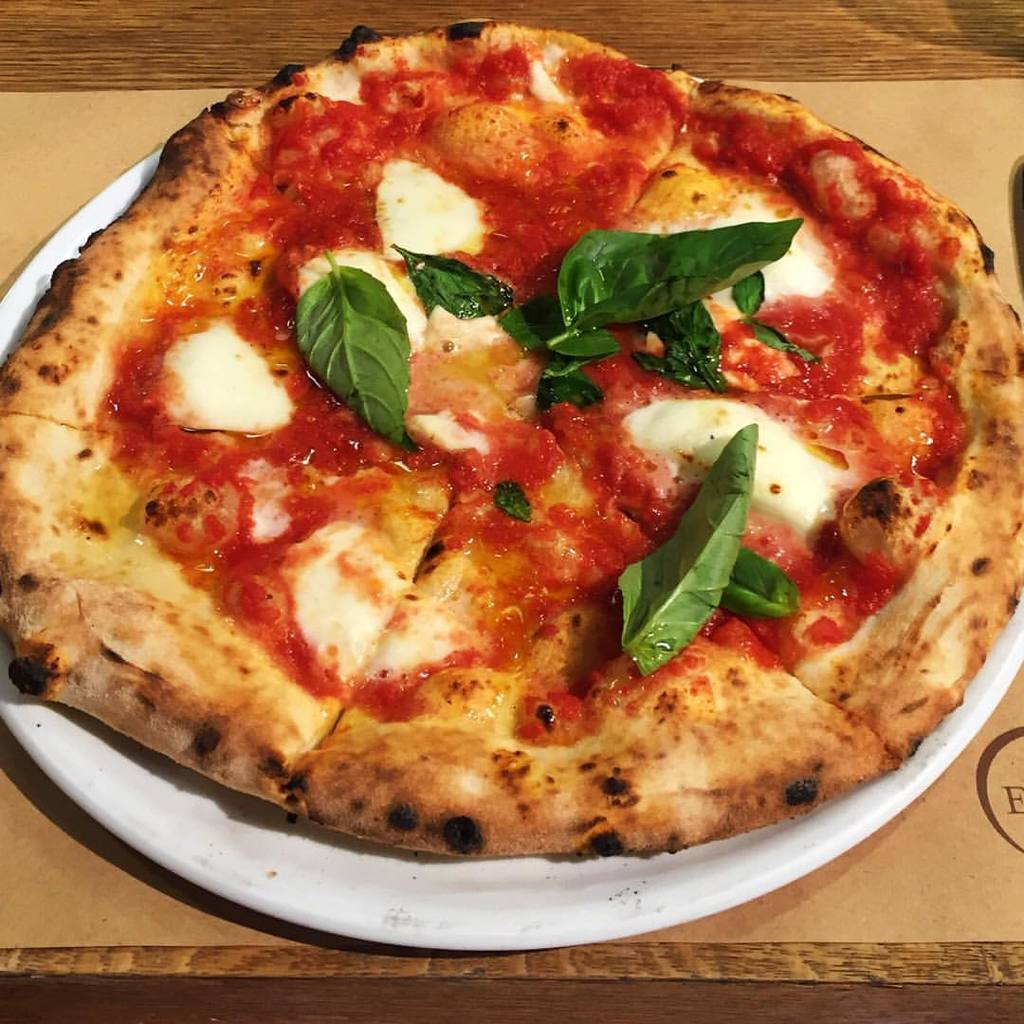pizza: (0, 19, 1023, 862)
